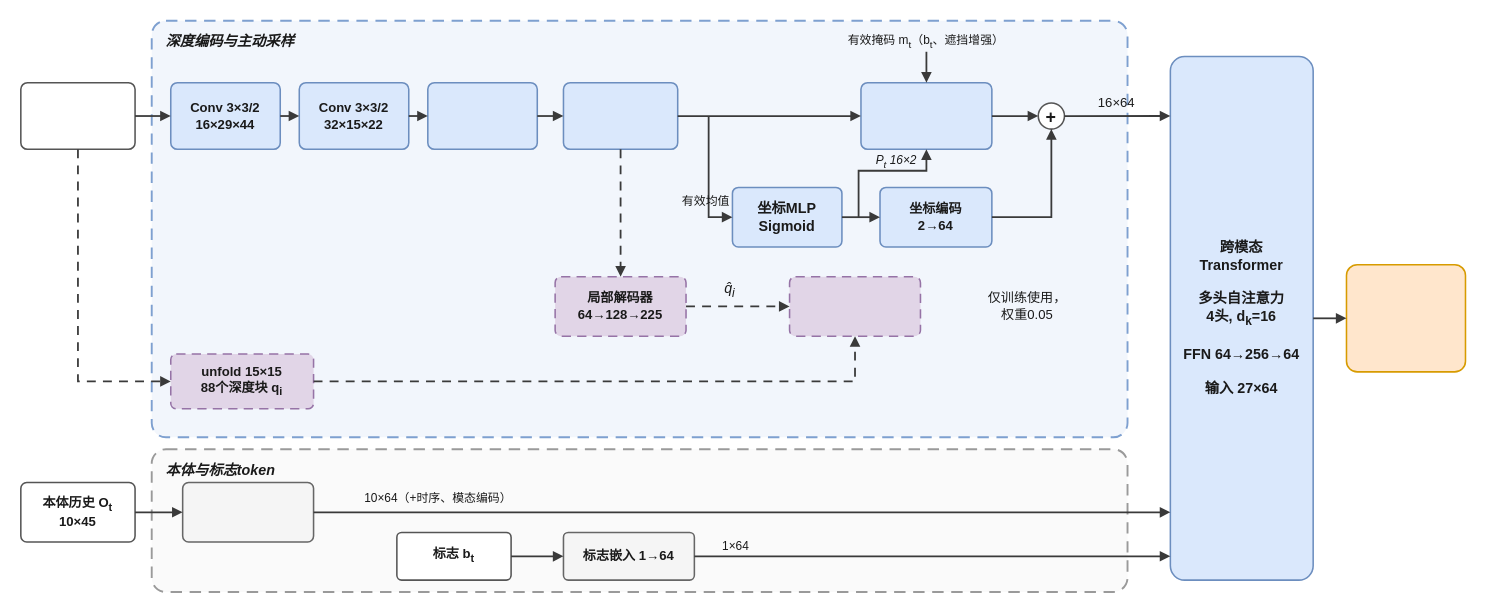
This 1488x614 diagram has some shape labels left out. Here are the shapes that lost their labels. From the top down, the centre of each, then its label:
At (x=77, y=115): "深度图 D t 58×87".
At (x=482, y=115): "Conv 3×3/2 64×8×11".
At (x=620, y=115): "token图 88×64".
At (x=926, y=115): "双线性采样 grid_sample".
At (x=854, y=305): "L patch 逐块MSE".
At (x=1405, y=317): "取10个 本体位置 X t (10×64)".
At (x=247, y=511): "本体MLP 45→64".
